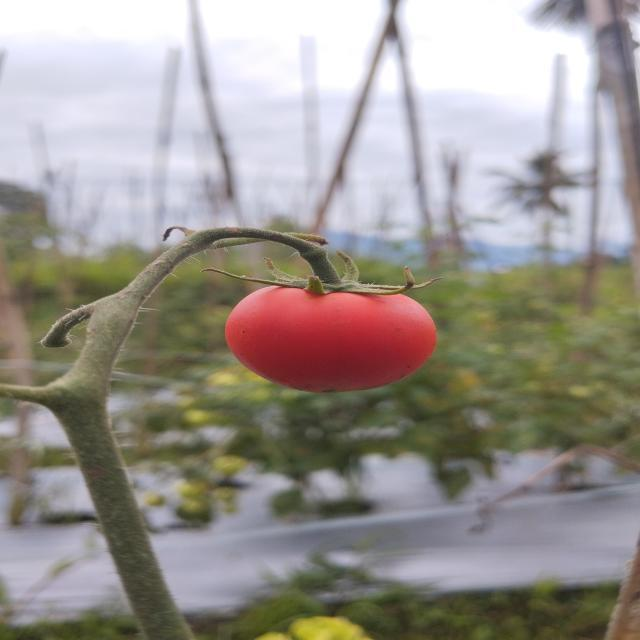Masak: (229, 268, 440, 396)
